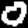o: (0, 0, 28, 28)
